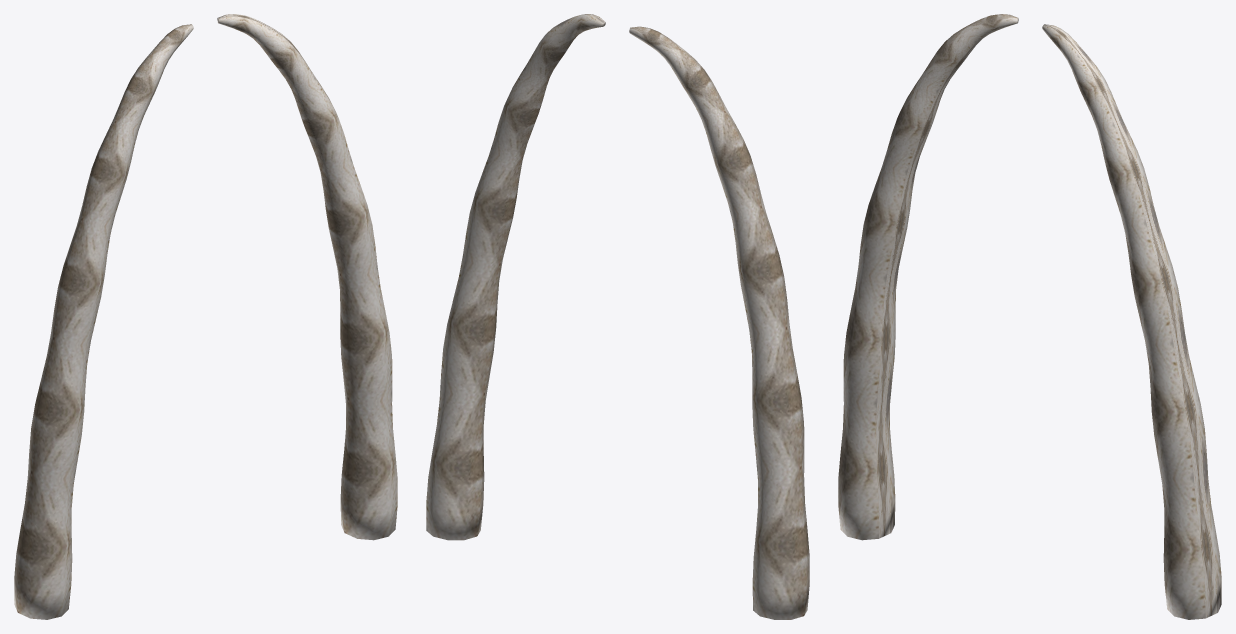
The model's file is Jotunheim_Bone_Arch.glb.
The picture shows the model from 3 angles, left to right: view 1: azimuth 30°, elevation 25°; view 2: azimuth 150°, elevation 25°; view 3: azimuth 330°, elevation 25°; orthographic projection.
Parts seen in each view (by area): view 1: Jotunheim_Bone_Arch; view 2: Jotunheim_Bone_Arch; view 3: Jotunheim_Bone_Arch.
Boxes of the visible parts, <box> form: Jotunheim_Bone_Arch: <box>14,14,397,619</box>; Jotunheim_Bone_Arch: <box>426,14,809,619</box>; Jotunheim_Bone_Arch: <box>838,14,1221,619</box>.
Bounding box in the file's own units: 0.7139 × 0.9963 × 0.1104.
1 material, 1 textured.
